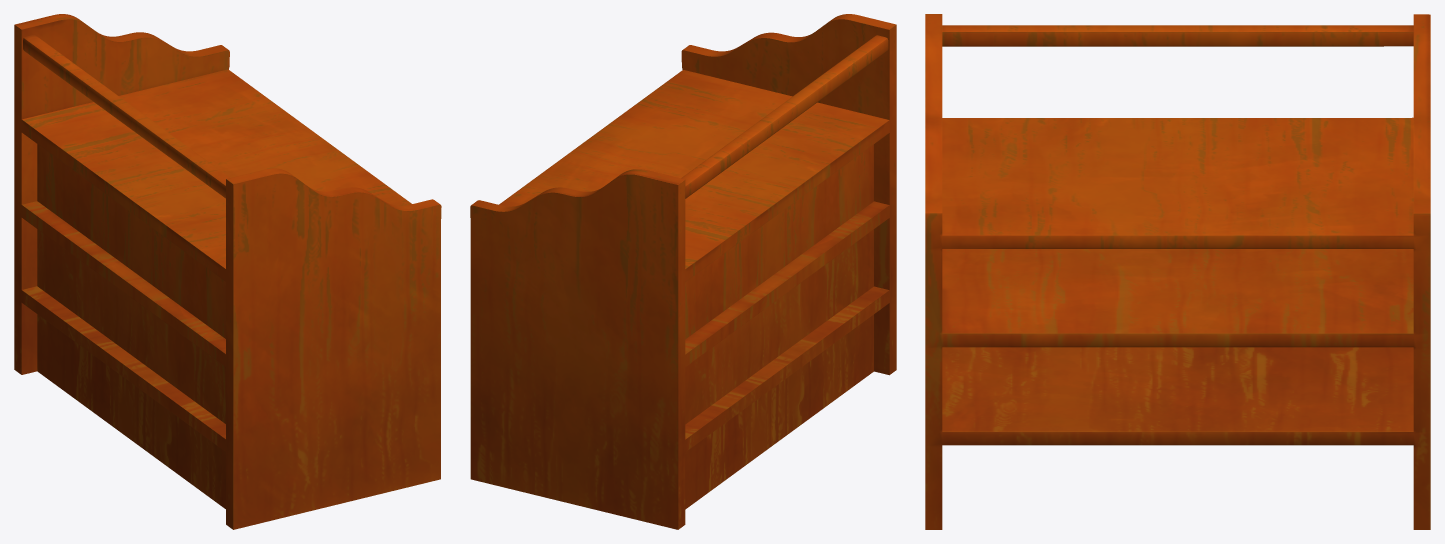
The model's file is House_LowShelf_v01.fbx.
3 views of the same model, side by side, from view 1: azimuth 30°, elevation 25°; view 2: azimuth 150°, elevation 25°; view 3: azimuth 270°, elevation 25° (orthographic). The views are drawn at different scales.
Visible parts, largest first — view 1: Low_Shelf; view 2: Low_Shelf; view 3: Low_Shelf.
Part boxes in pixels (x1,y1,x2,y2): Low_Shelf: (14, 14, 441, 529); Low_Shelf: (470, 14, 896, 529); Low_Shelf: (925, 14, 1430, 529).
Bounding box in the file's own units: 78.1 × 142 × 124.
Materials: 1 (1 with a texture image).
